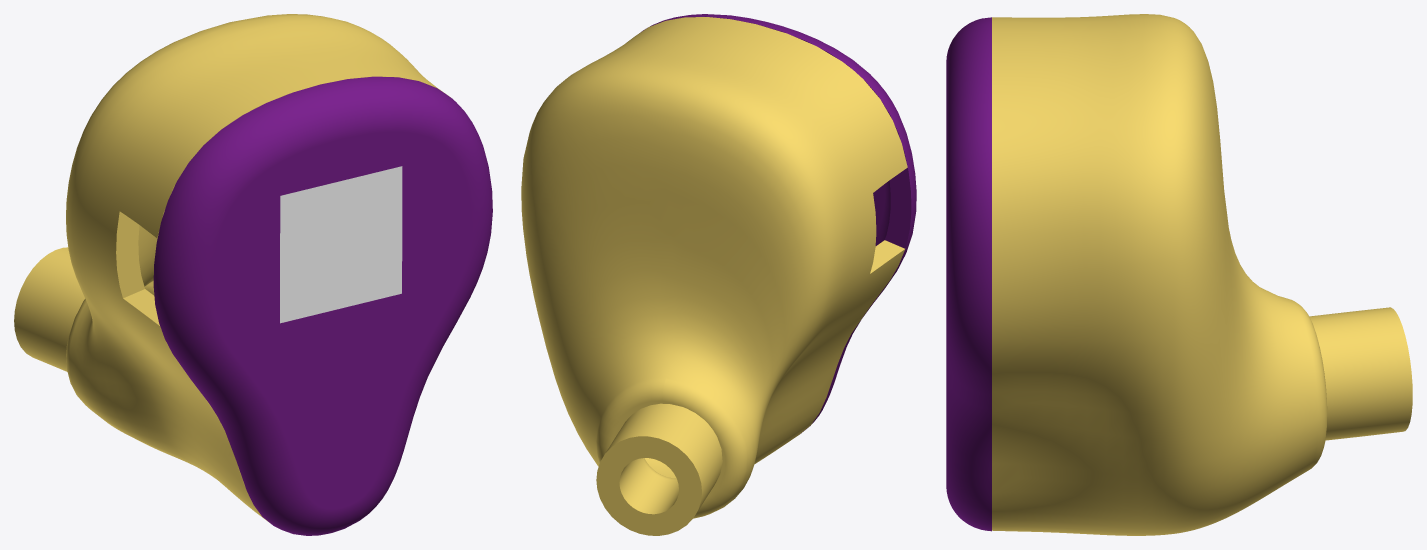
Rendered from juls.gltf.
3 views of the same model, side by side, from view 1: azimuth 30°, elevation 25°; view 2: azimuth 150°, elevation 25°; view 3: azimuth 270°, elevation 25° (orthographic). The views are drawn at different scales.
Visible parts, largest first — view 1: IEM1-cap, IEM1, Plane; view 2: IEM1, IEM1-cap; view 3: IEM1, IEM1-cap.
Part boxes in pixels (left/top/right/bottom): IEM1-cap: left=153, top=76, right=492, bottom=535; IEM1: left=14, top=14, right=450, bottom=521; Plane: left=280, top=166, right=402, bottom=323; IEM1: left=521, top=17, right=907, bottom=535; IEM1-cap: left=641, top=14, right=916, bottom=433; IEM1: left=992, top=14, right=1412, bottom=535; IEM1-cap: left=946, top=17, right=991, bottom=531.
Bounding box in the file's own units: 0.0185 × 0.0232 × 0.0205.
